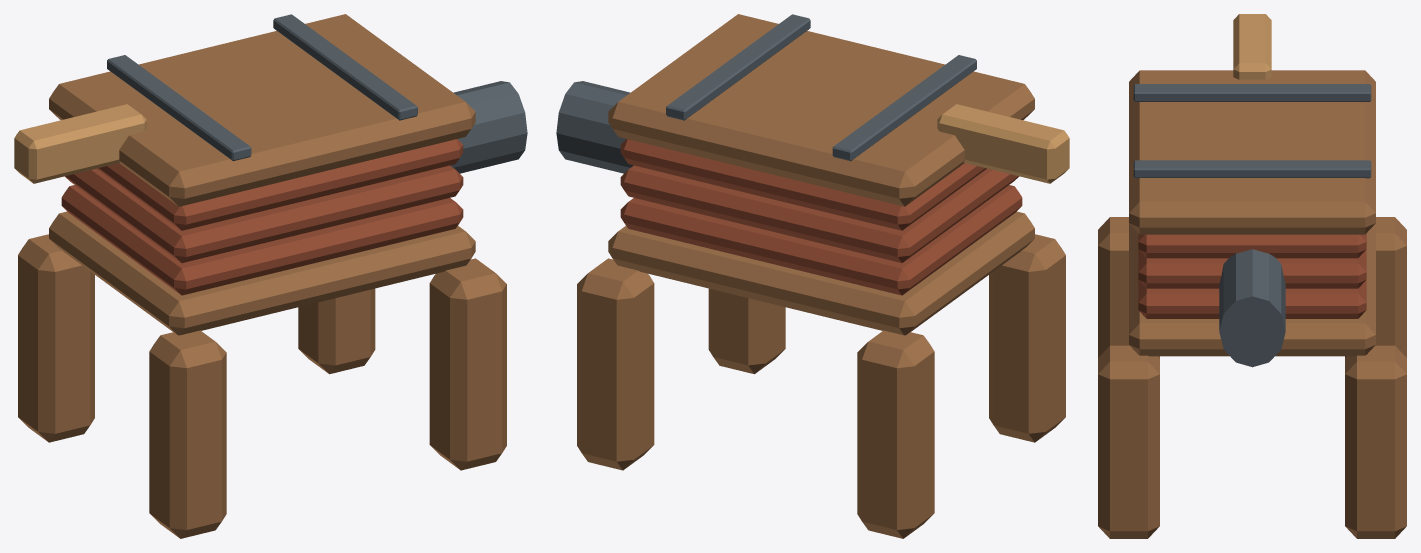
Rendered from smith_bellows.glb.
3 views of the same model, side by side, from view 1: azimuth 30°, elevation 25°; view 2: azimuth 150°, elevation 25°; view 3: azimuth 270°, elevation 25° (orthographic). The views are drawn at different scales.
Visible parts, largest first — view 1: smith_bellows; view 2: smith_bellows; view 3: smith_bellows.
Part boxes in pixels (bbox=[...]): smith_bellows: bbox=[14, 14, 527, 538]; smith_bellows: bbox=[556, 14, 1069, 538]; smith_bellows: bbox=[1098, 14, 1406, 538].
Size of the model in its own units: 0.9473 by 0.68 by 0.5522.
